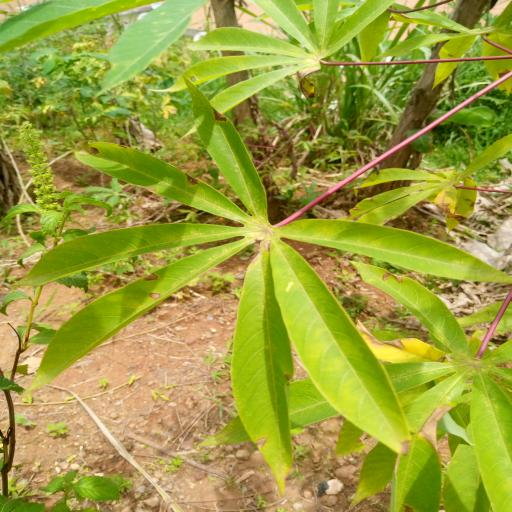Cassava_Brown_Leaf_Spot: (26, 92, 506, 482)
